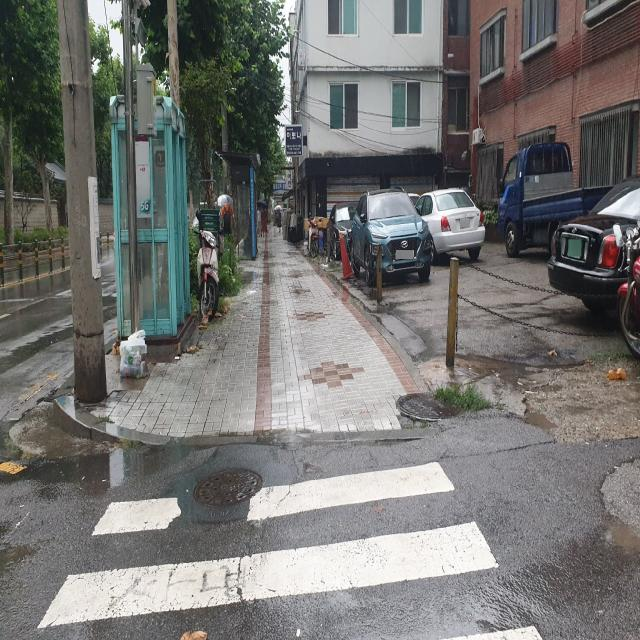횡단보도: (35, 455, 544, 640)
